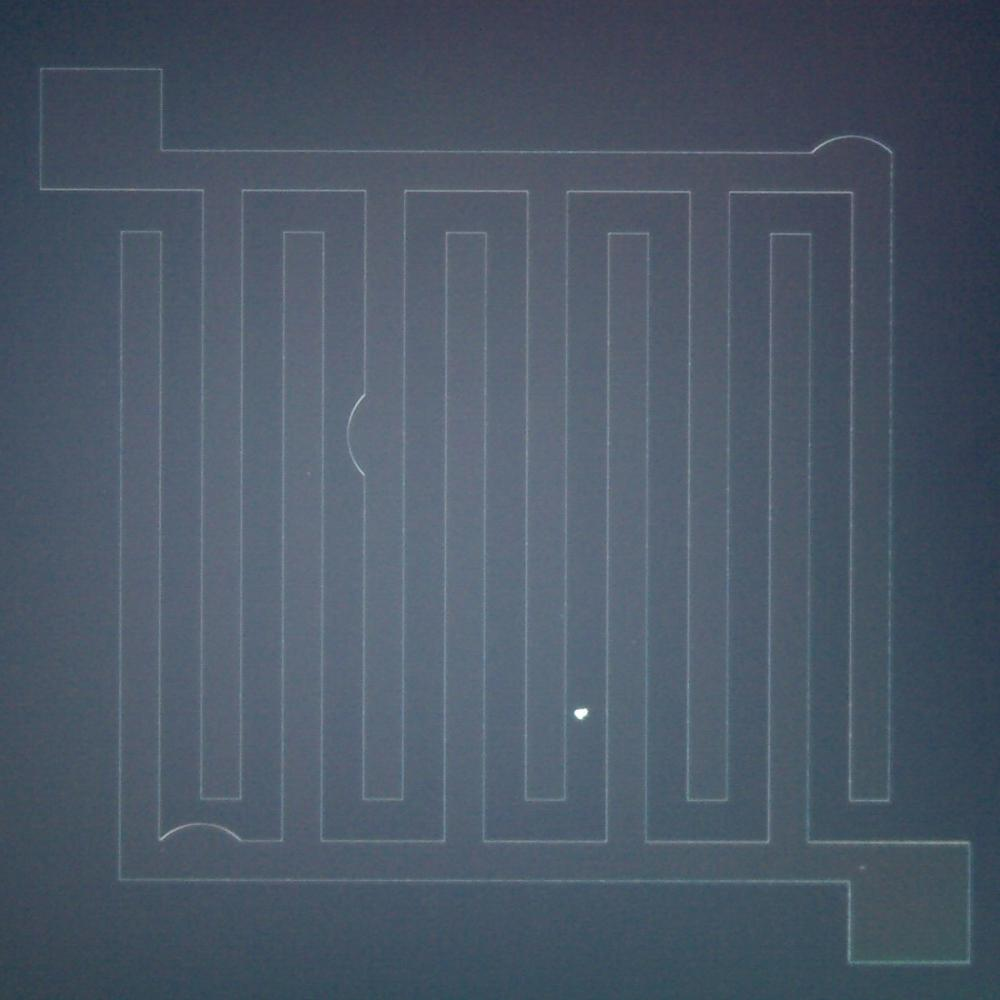dot: (574, 707, 588, 721), (860, 865, 865, 870)
